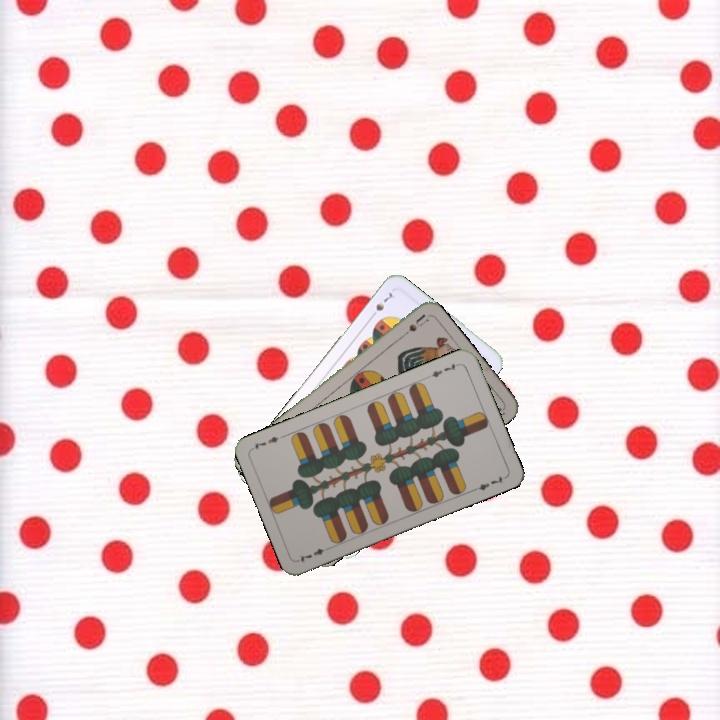E7: (295, 543, 334, 565), (427, 359, 462, 380)
S7: (366, 287, 397, 321)
SU: (395, 310, 431, 342)
